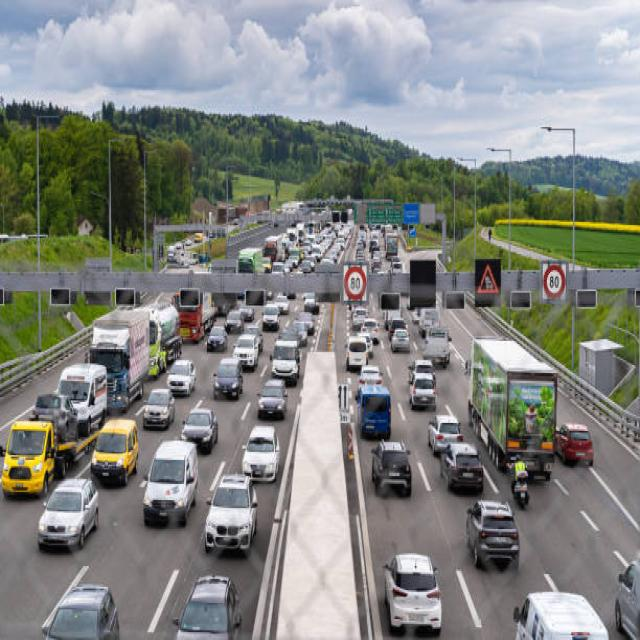16-Wheelers: (468, 336, 558, 481)
Car: (382, 552, 442, 634), (512, 590, 608, 638), (174, 572, 242, 638), (41, 582, 119, 639), (36, 471, 86, 553), (204, 479, 259, 544), (372, 437, 414, 492), (240, 416, 274, 480), (614, 558, 639, 638), (554, 423, 593, 466), (146, 385, 170, 429), (170, 348, 189, 396)
Motorcycle: (510, 471, 529, 508)
